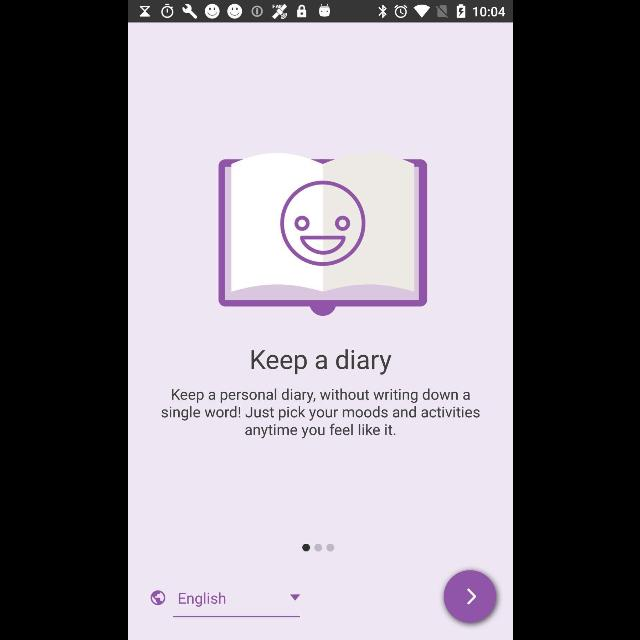button: (442, 570, 496, 624)
icon: (289, 594, 299, 600)
image: (217, 152, 428, 316), (150, 590, 164, 606)
pageindicator: (302, 544, 334, 552)
spinner: (172, 592, 302, 618)
text: (160, 388, 480, 440), (250, 348, 390, 376), (178, 593, 226, 605)
uppertaskbar: (128, 1, 512, 23)
